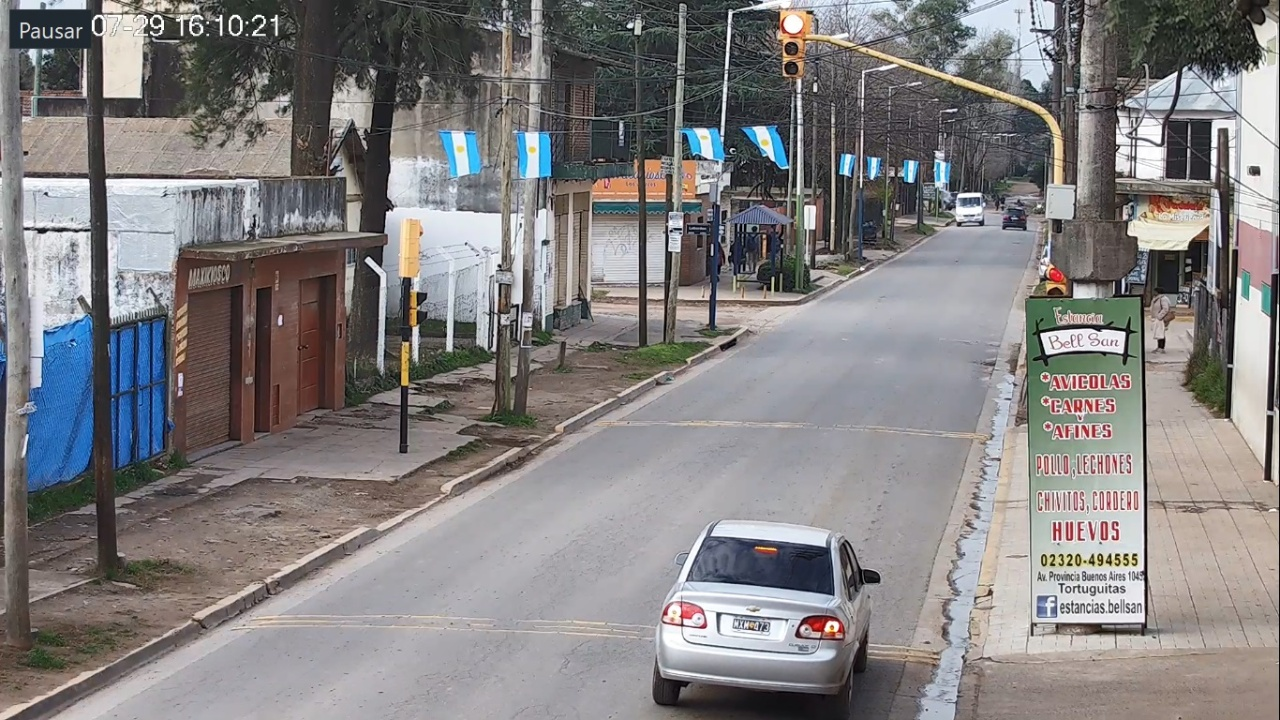car: (653, 518, 880, 720)
traffic light: (781, 11, 804, 76)
